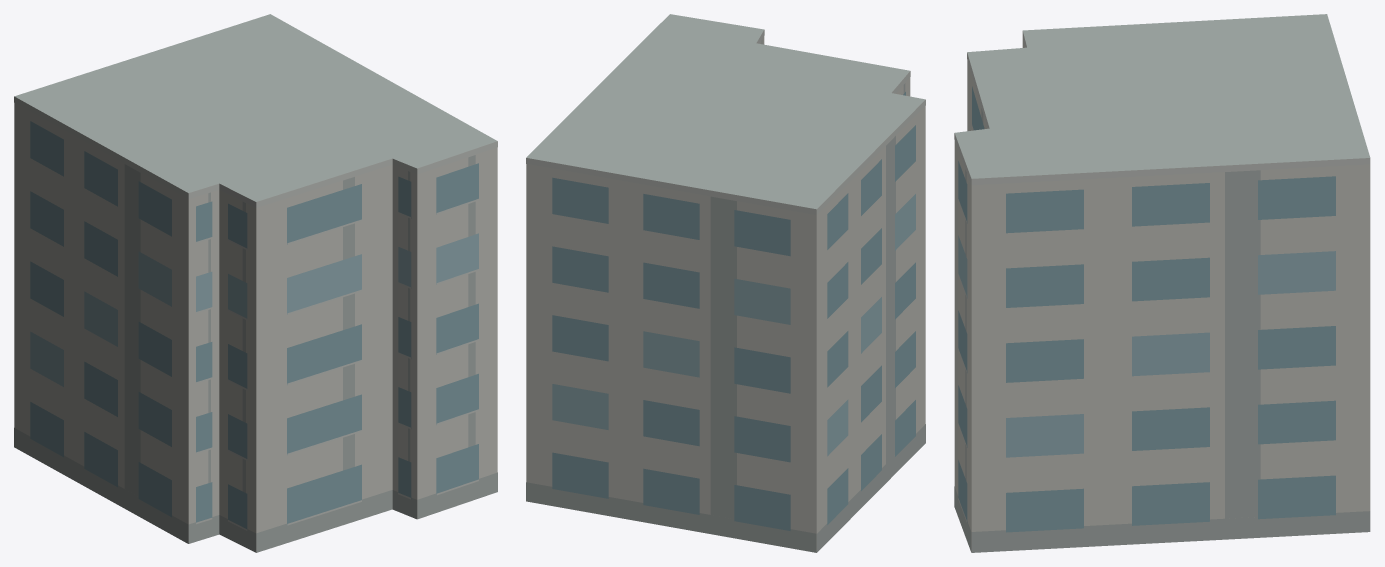
Rendered from survey-upis-32637527.glb.
3 renders of one model, left to right at view 1: azimuth 30°, elevation 25°; view 2: azimuth 150°, elevation 25°; view 3: azimuth 270°, elevation 25°, orthographic. The views are drawn at different scales.
Parts seen in each view (by area): view 1: survey-upis-32637527.tmp; view 2: survey-upis-32637527.tmp; view 3: survey-upis-32637527.tmp.
Boxes of the visible parts, left/top/right/bottom form: survey-upis-32637527.tmp: left=14, top=14, right=497, bottom=552; survey-upis-32637527.tmp: left=526, top=14, right=925, bottom=552; survey-upis-32637527.tmp: left=954, top=14, right=1370, bottom=552.
Bounding box in the file's own units: 13.05 × 13.8 × 13.92.
